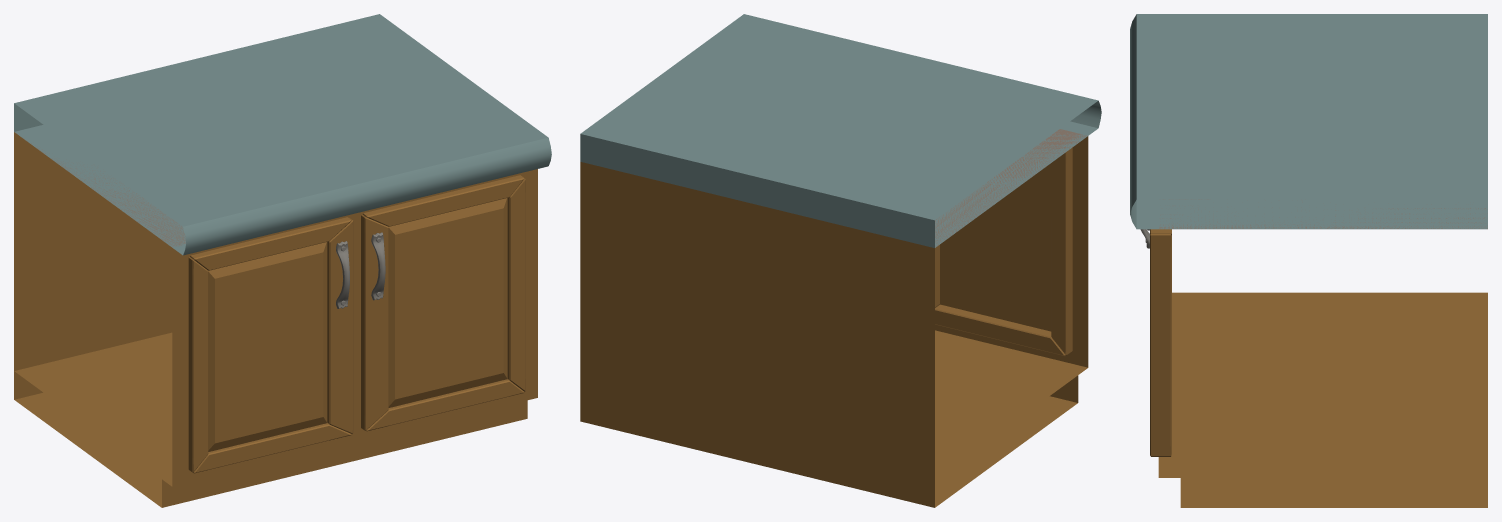
Rendered from Counter_2M.fbx.
The picture shows the model from 3 angles, left to right: view 1: azimuth 30°, elevation 25°; view 2: azimuth 150°, elevation 25°; view 3: azimuth 270°, elevation 25°; orthographic projection. The views are drawn at different scales.
Visible parts, largest first — view 1: Counter_2M; view 2: Counter_2M; view 3: Counter_2M.
Part boxes in pixels (box(x1,y1,x2,y2)): Counter_2M: box(14, 14, 551, 507); Counter_2M: box(580, 14, 1101, 507); Counter_2M: box(1130, 14, 1487, 507).
Bounding box in the file's own units: 2 × 1.55 × 1.63.
